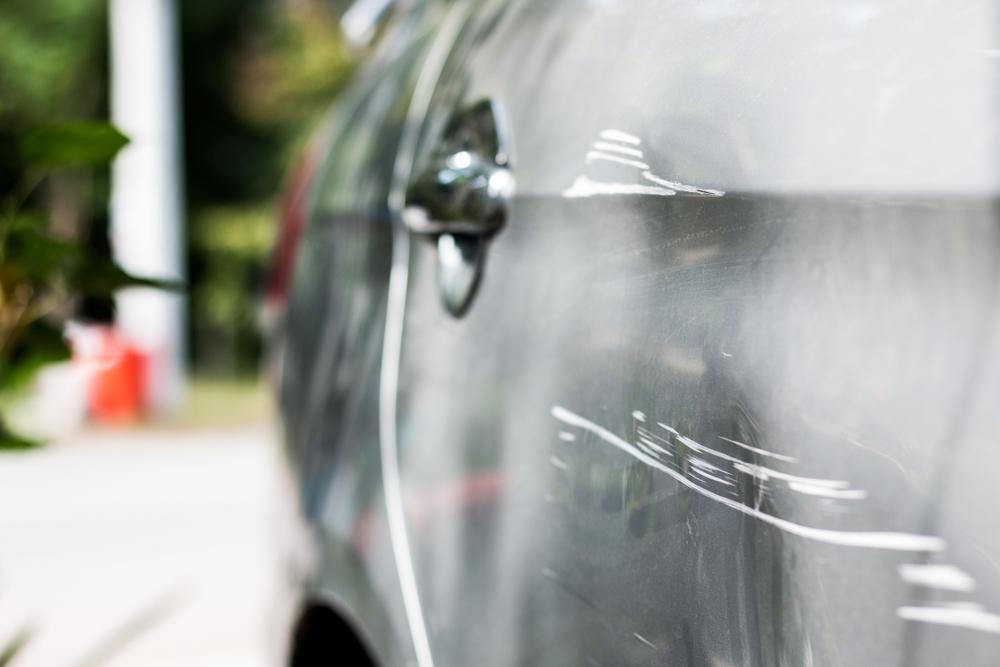scratch: (545, 393, 1000, 641), (559, 126, 730, 203)
